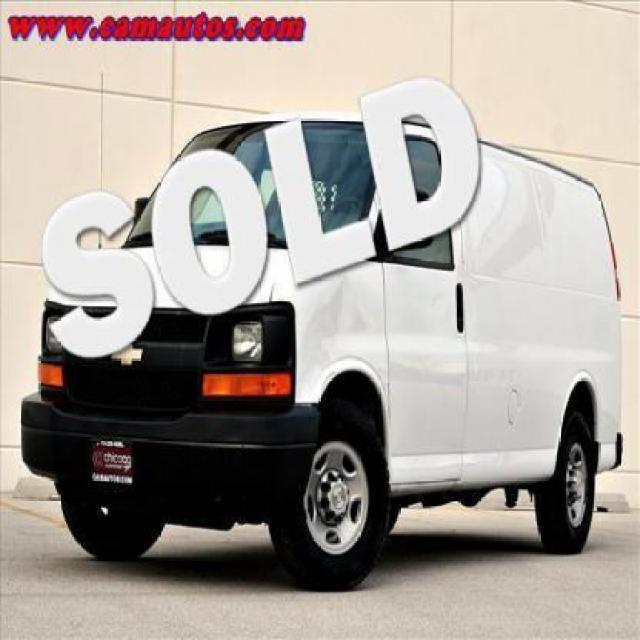vehicle: (40, 97, 609, 587)
